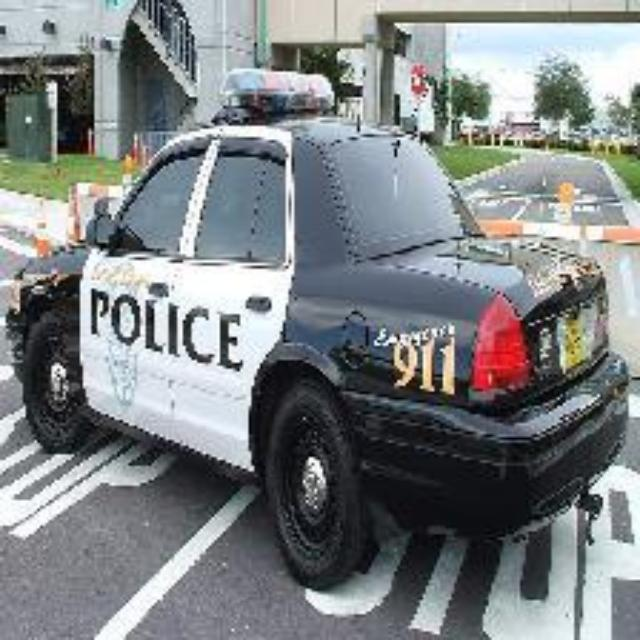emergency: (22, 70, 624, 588)
